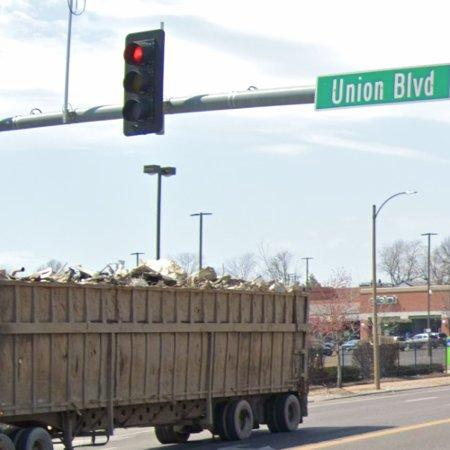traffic lights: (123, 28, 164, 136)
